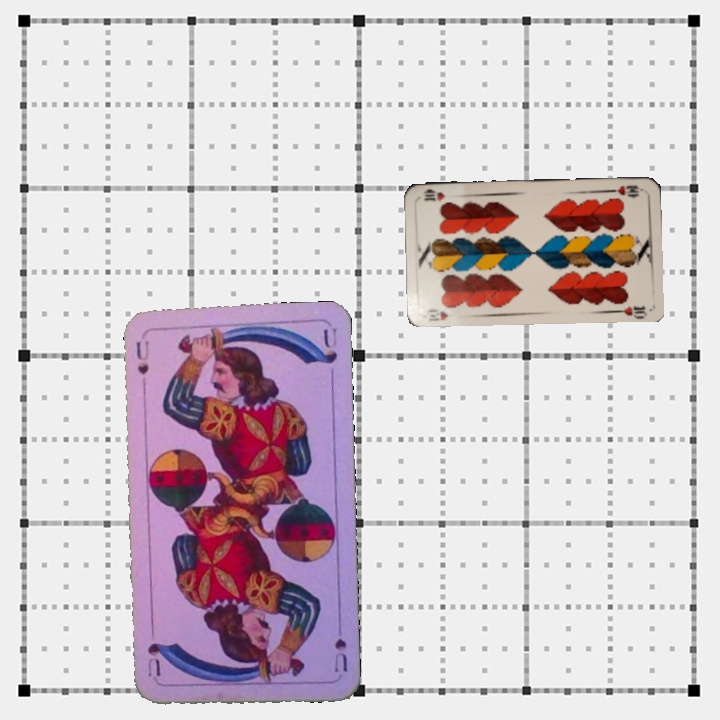H10: (606, 181, 645, 198), (420, 305, 451, 323)
SU: (330, 616, 350, 675), (132, 336, 152, 390)
